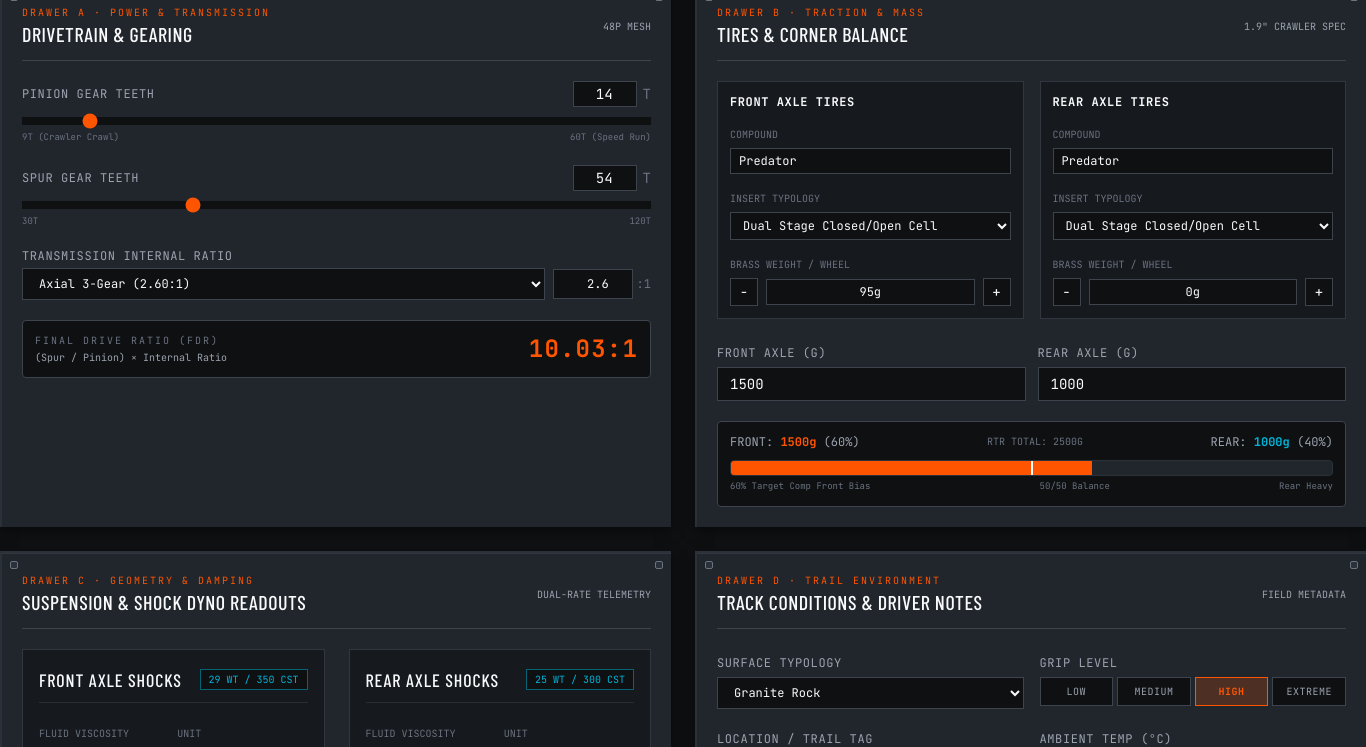
Test: SetupClipboardView › animates CoG distribution and updates bias percentages when axle weights change
The image size is (1366, 747).
(page scrolled)
Replace the text in the number field labelled "Front Axle (g)" with "1600" at (871, 384), box x1=717 y1=367 x2=1026 y2=401
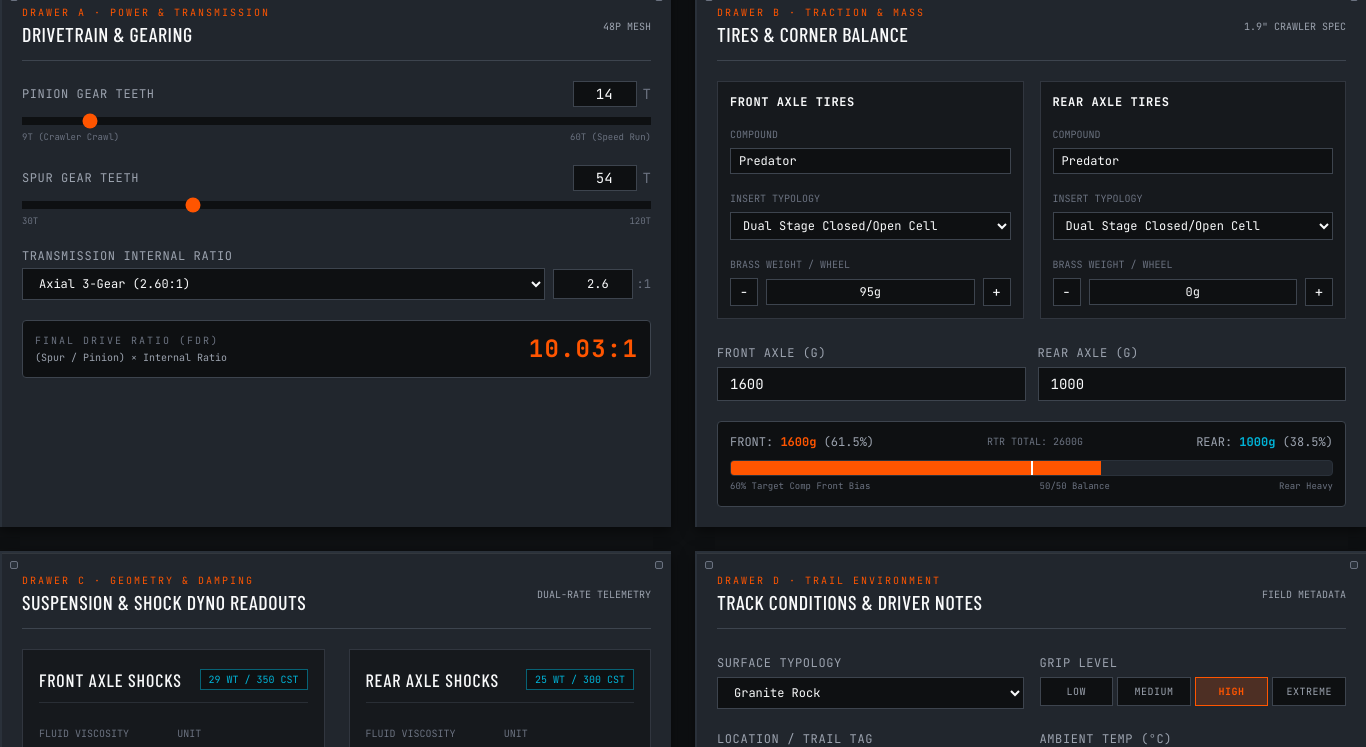
Expected: the text "1600g" is shown, x1=780 y1=434 x2=816 y2=450
Expected: the text "FRONT: 1600g (61.5%)" is shown, x1=730 y1=434 x2=874 y2=450
